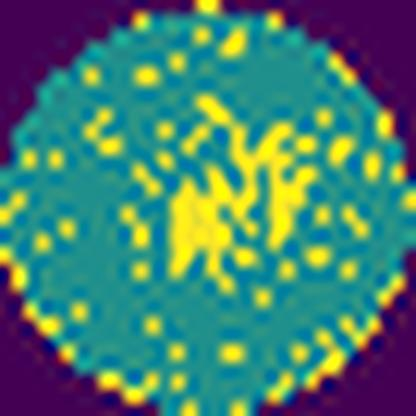Center: (166, 90, 322, 297)
